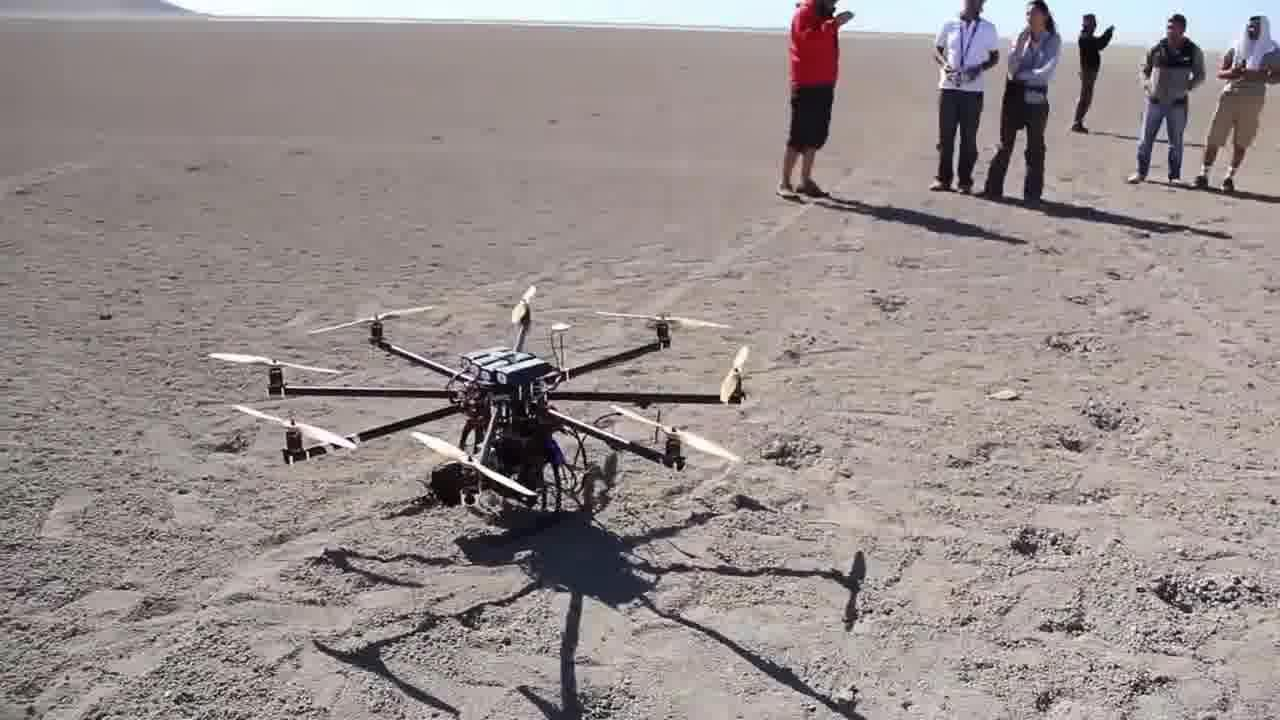drone: (204, 280, 754, 529)
